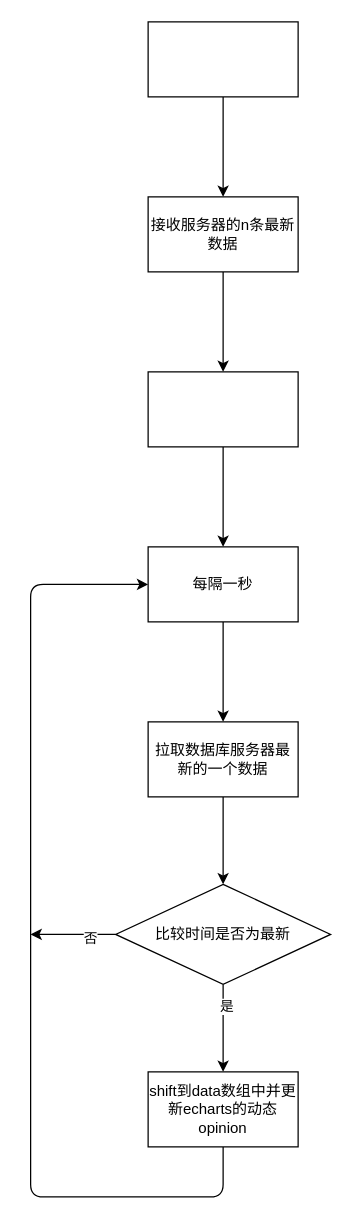
This 353x1229 diagram has some shape labels left out. The centre of each missing label's shape, as x and y in pixels:
fetchData( ): the point at 222,59
配置好静态和动态opinion显示到屏幕上: the point at 222,409
